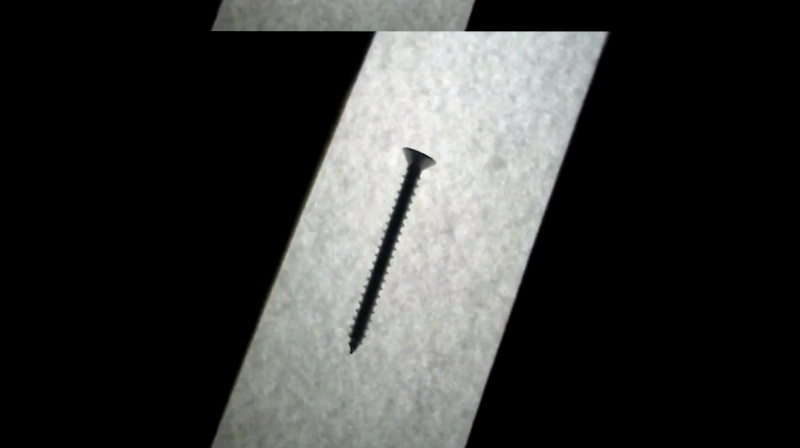S002: (346, 144, 439, 356)
